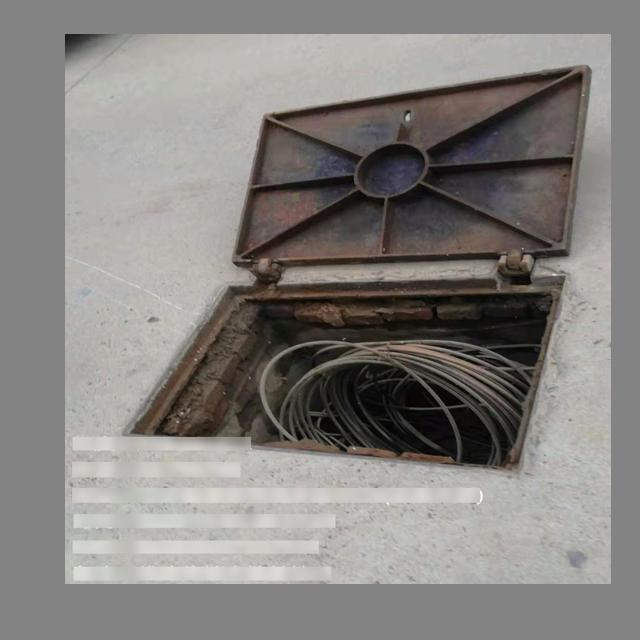uncovered: (130, 65, 590, 476)
